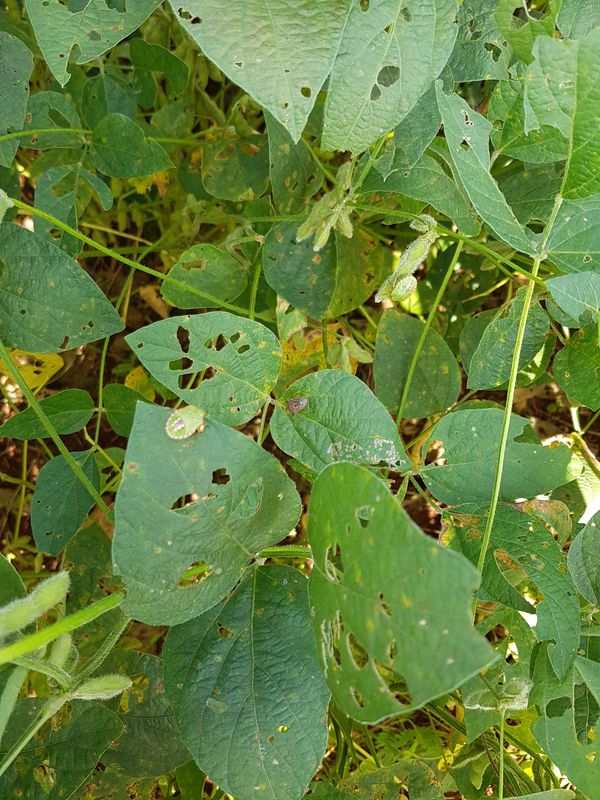Euschistus_heros_adulto: (278, 394, 313, 421)
Nezara_viridula_ninfa: (157, 401, 209, 446), (383, 269, 422, 309)
